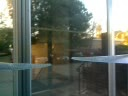window: (0, 11, 27, 96), (38, 48, 61, 62), (38, 87, 65, 96), (91, 67, 98, 72)
